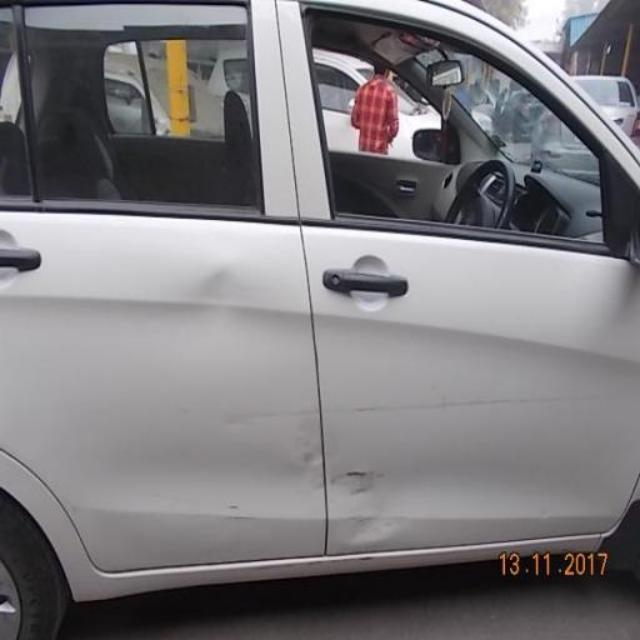crack: (317, 466, 385, 498)
dent: (196, 264, 247, 332), (349, 507, 411, 546), (295, 424, 323, 469)
scratch: (226, 389, 606, 421), (226, 499, 252, 523)
